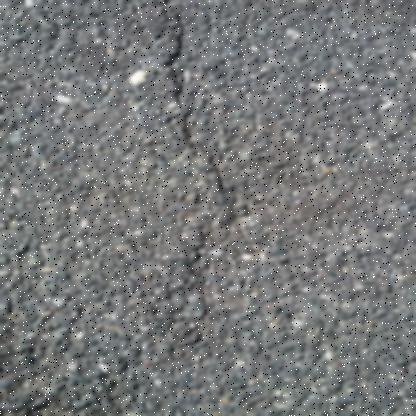Cracks: (137, 0, 248, 223)
